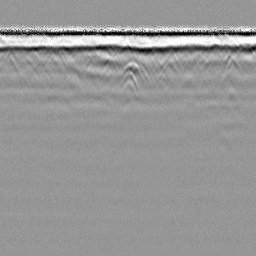cavity: (119, 58, 145, 82)
